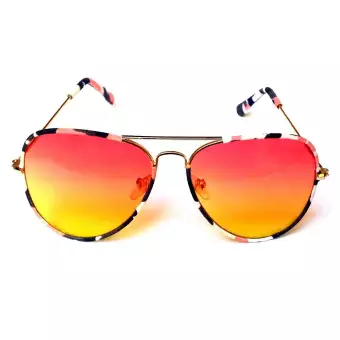sunglasses: (3, 99, 330, 254)
